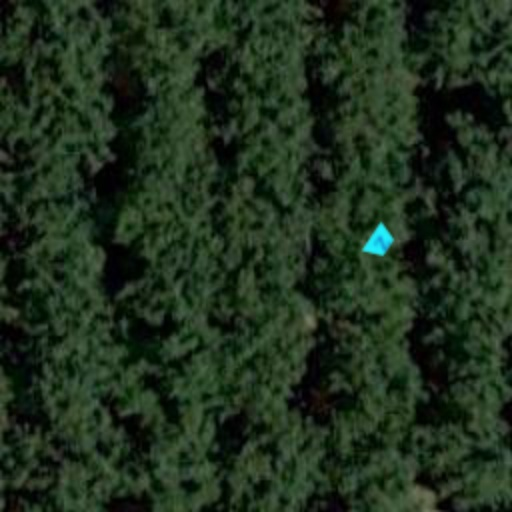trapezoid: (354, 216, 406, 268)
